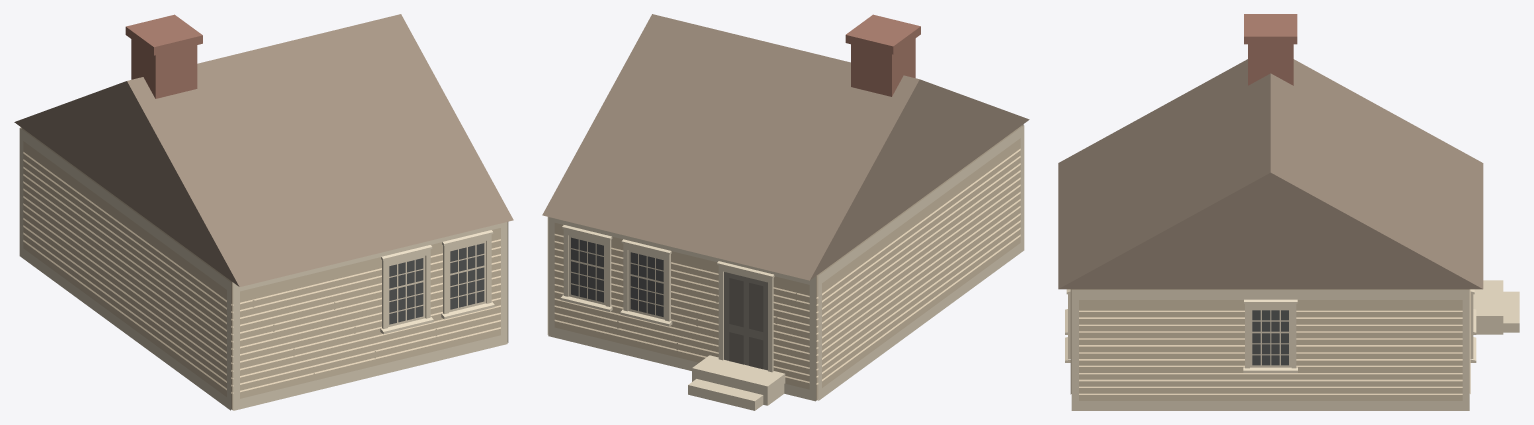
The model's file is recon_1835_west_029__inferred_1835.glb.
3 renders of one model, left to right at view 1: azimuth 30°, elevation 25°; view 2: azimuth 150°, elevation 25°; view 3: azimuth 270°, elevation 25°, orthographic. The views are drawn at different scales.
Parts seen in each view (by area): view 1: recon_1835_west_029__inferred_1835; view 2: recon_1835_west_029__inferred_1835; view 3: recon_1835_west_029__inferred_1835.
Part boxes in pixels (x1,y1,x2,y2): recon_1835_west_029__inferred_1835: [14, 14, 513, 410]; recon_1835_west_029__inferred_1835: [542, 14, 1029, 410]; recon_1835_west_029__inferred_1835: [1058, 14, 1519, 410].
Size of the model in its own units: 5.64 by 5.6 by 8.48.
